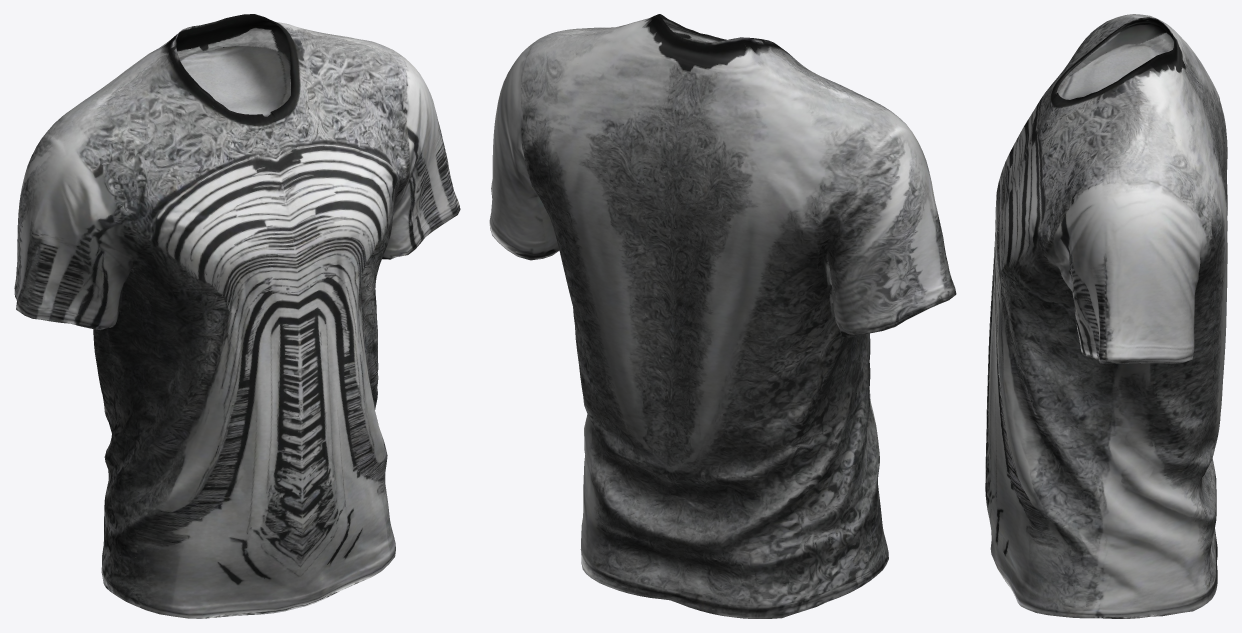
The model's file is shirt9.glb.
3 renders of one model, left to right at view 1: azimuth 30°, elevation 25°; view 2: azimuth 150°, elevation 25°; view 3: azimuth 270°, elevation 25°, orthographic. The views are drawn at different scales.
Size of the model in its own units: 1.75 by 2.01 by 0.8348.
1 material, 1 textured.
